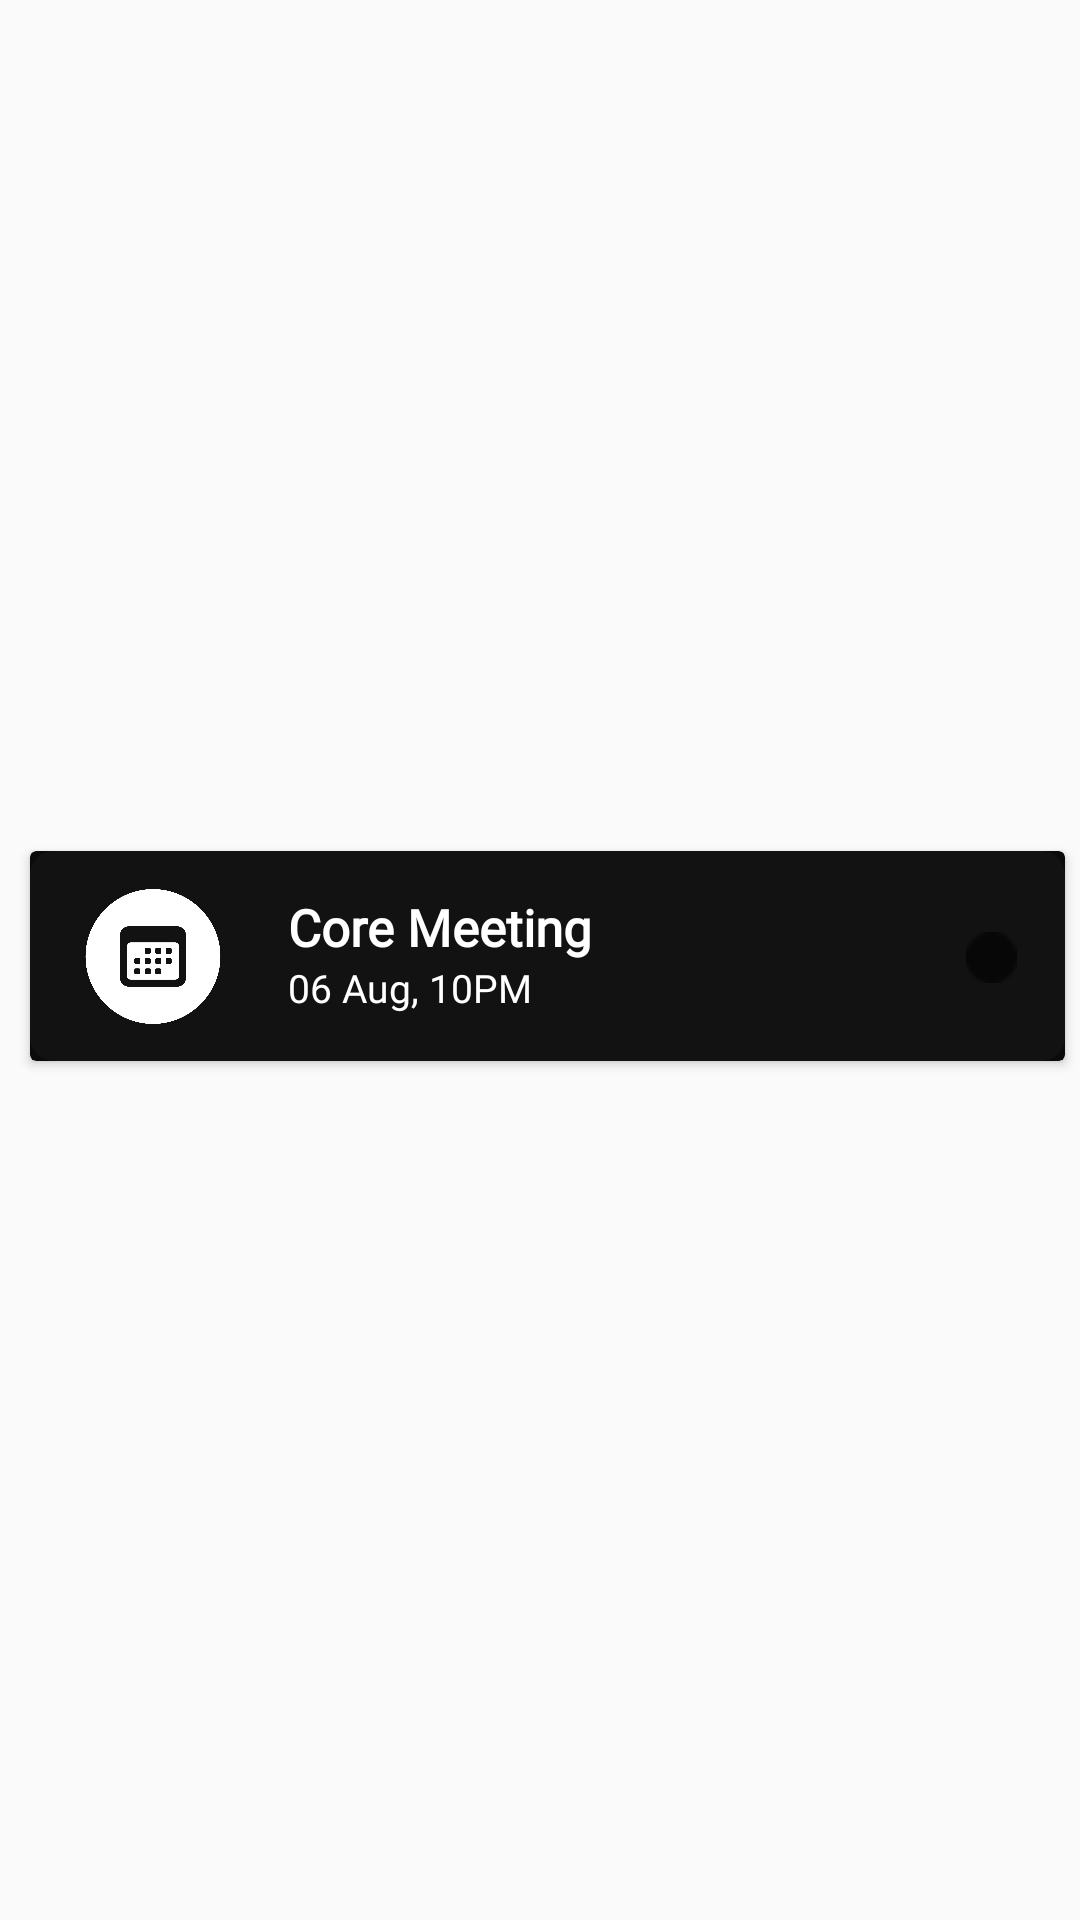

Icon bounding boxes for this 1080px x 1920px phone screenshot, format Rect(x1, y1, x2, y2):
calendar: Rect(85, 889, 221, 1024)
